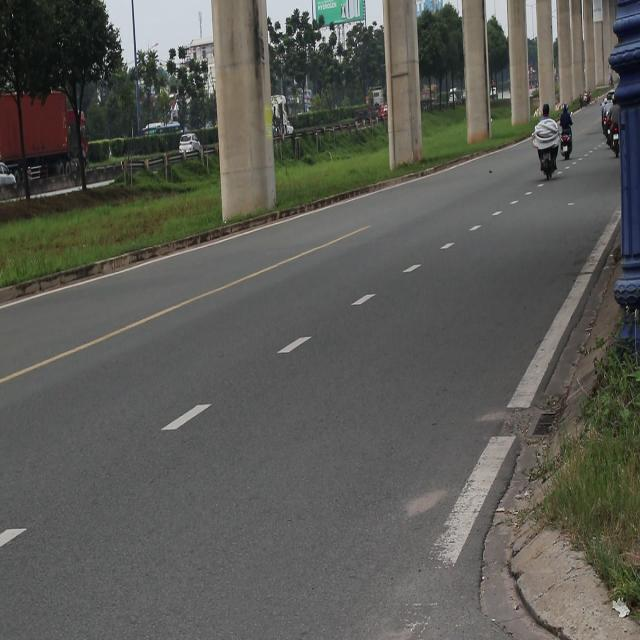car: (181, 134, 202, 154)
motorbike: (536, 142, 558, 183), (555, 115, 572, 168), (600, 114, 619, 158), (612, 130, 628, 164)
truck: (0, 84, 95, 188)
